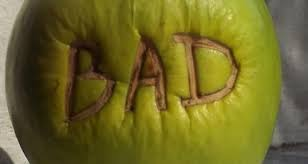damaged_apple: (11, 2, 281, 163)
